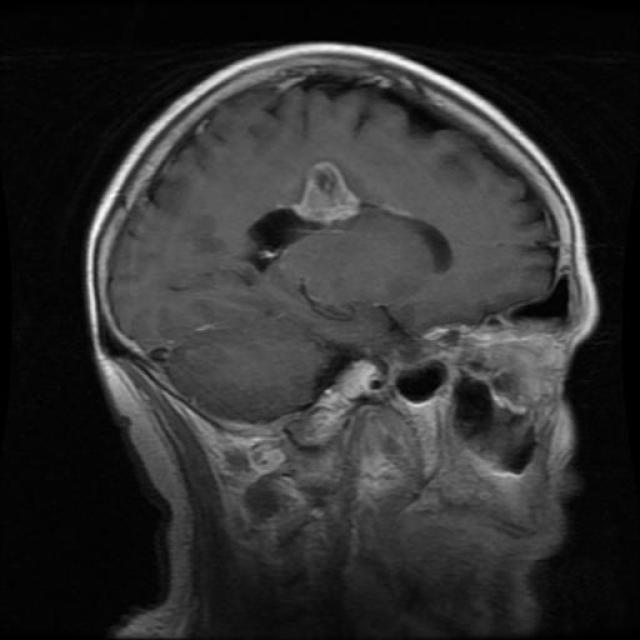glioma: (249, 158, 465, 292)
